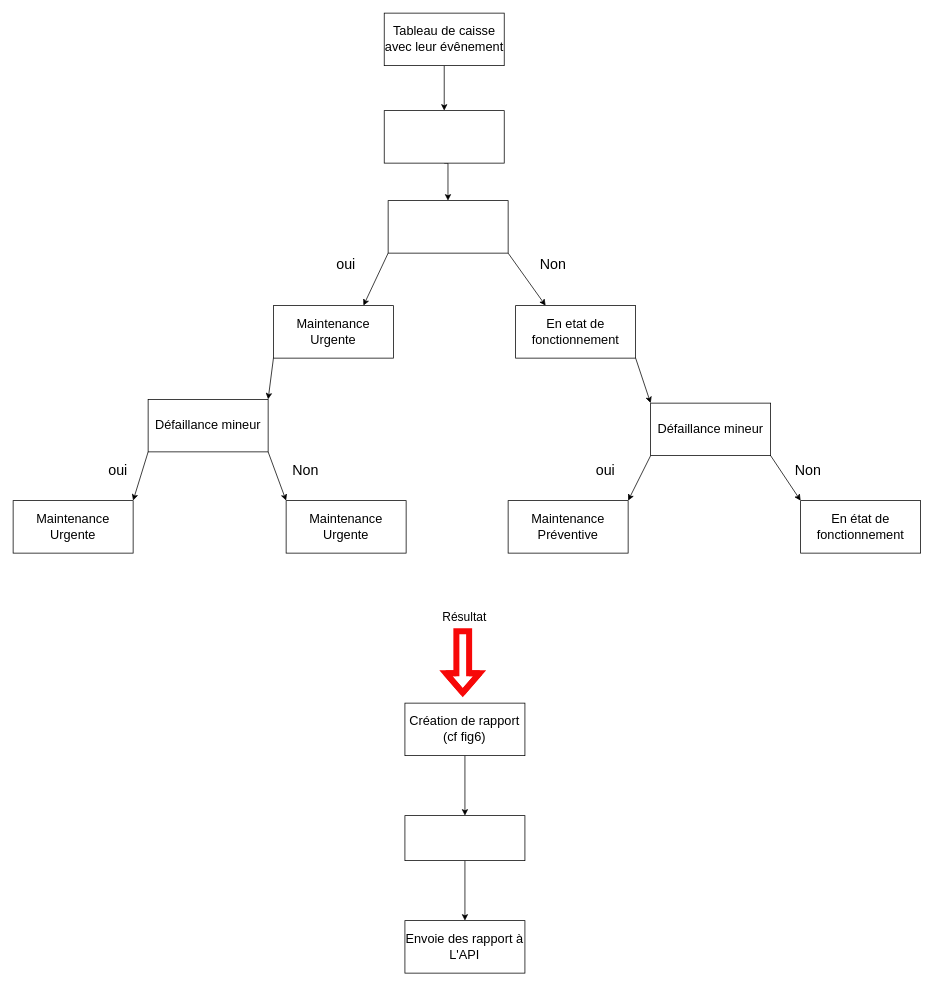
This 934x986 diagram has some shape labels left out. The centre of each missing label's shape, as x and y in pixels:
"Aggrégations des résultat en un tableau" goes at (464,838).
"Défaillance majeur" goes at (447,226).
"Verification de chaque caisse" goes at (443,136).
